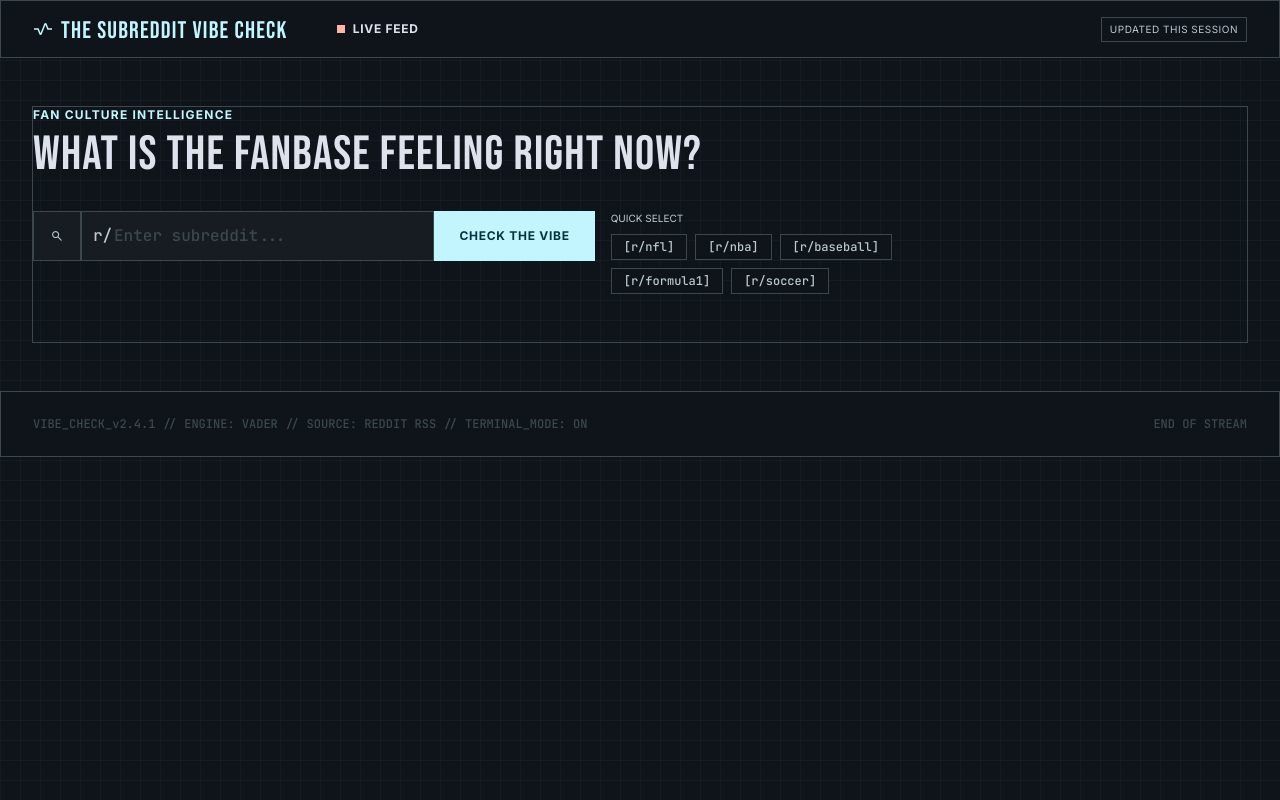
Scenario: App Error Handling › shows friendly message for empty feed (404 from backend)
Step 1. Type "empty" into the field with placeholder "Enter subreddit..." → (258, 236), box [81,211,434,261]
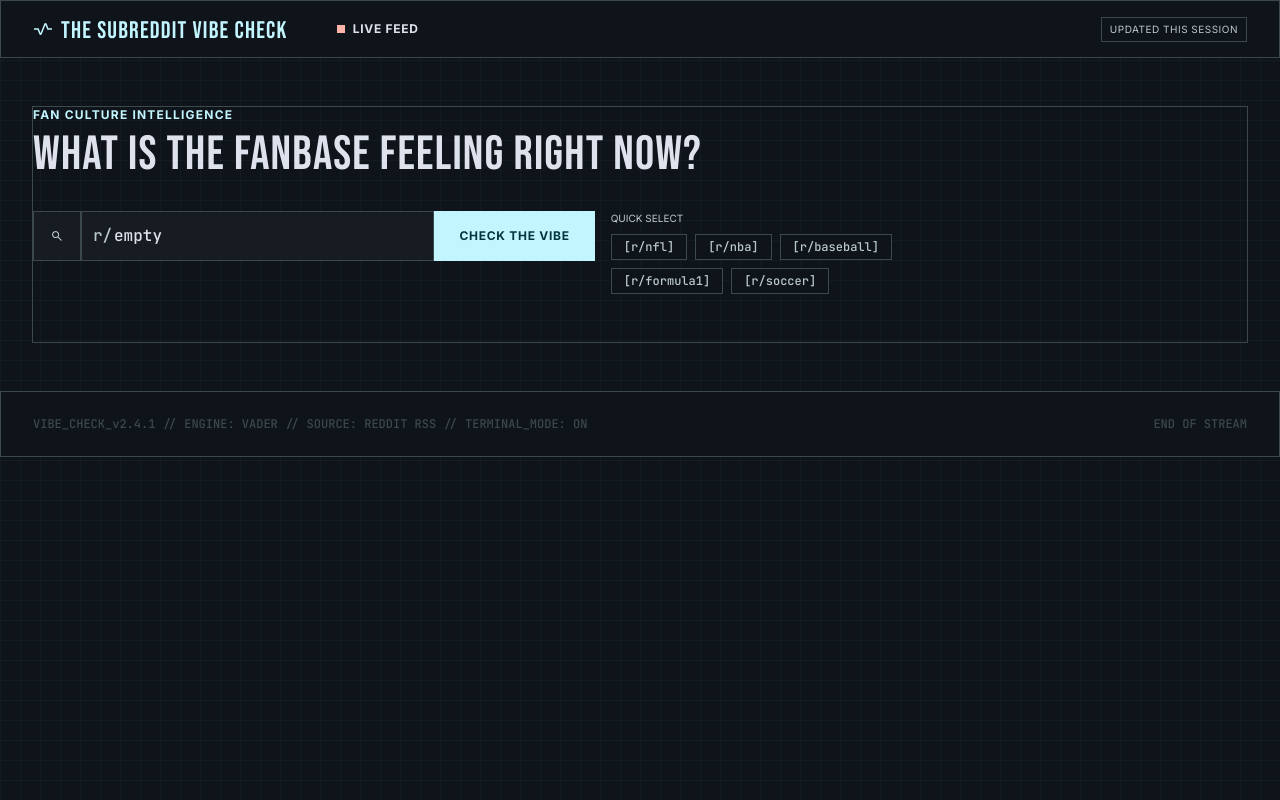
Step 2. Click the button "CHECK THE VIBE" → (515, 236), box [434,211,595,261]
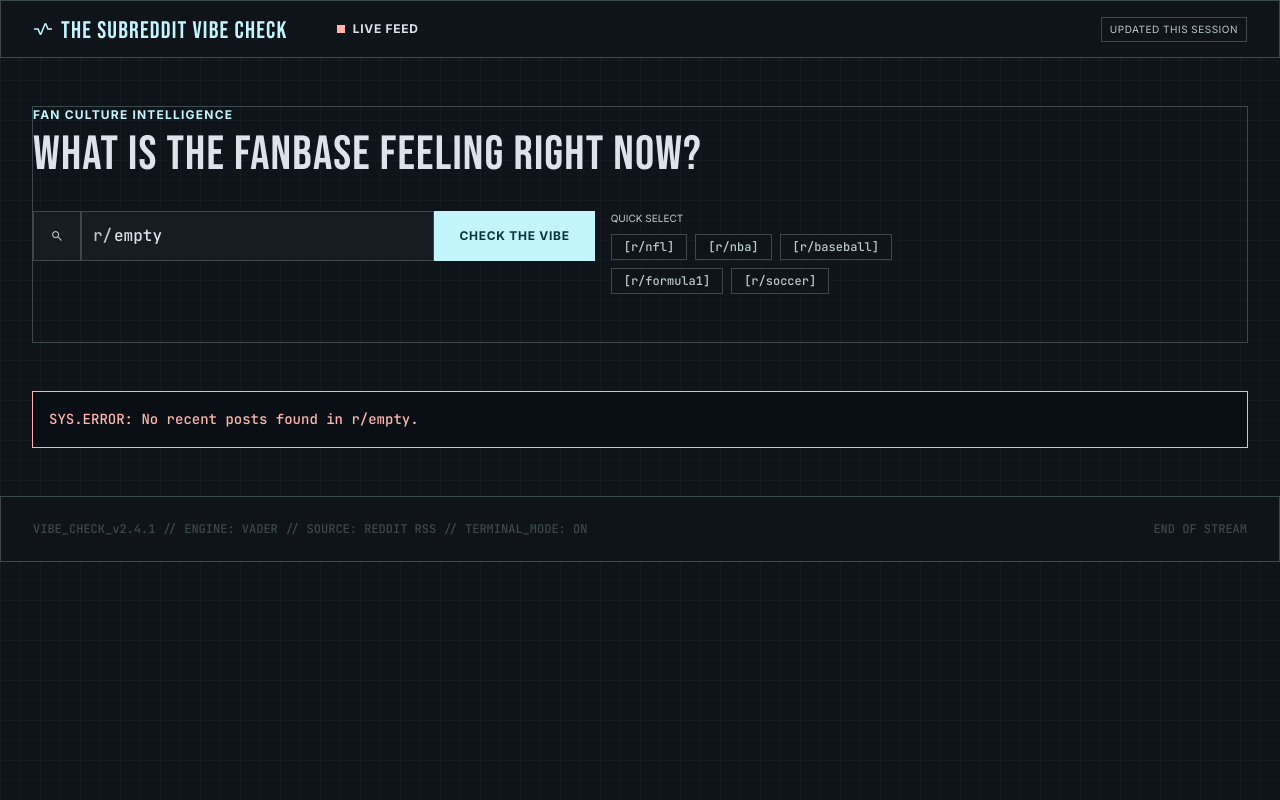
Check: the text "SYS.ERROR: No recent posts found in r/empty." is shown, box [49,410,419,428]
